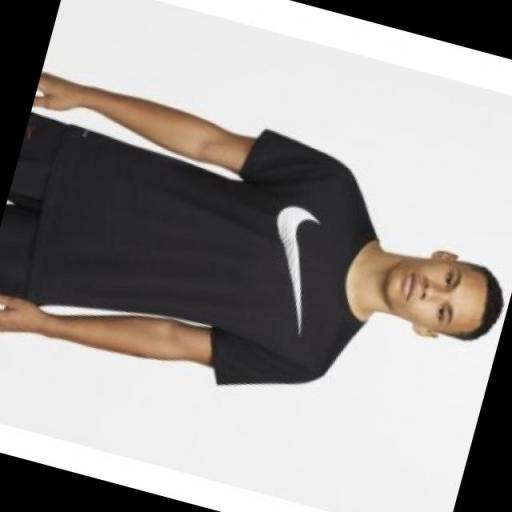Nike: (240, 190, 335, 344)
